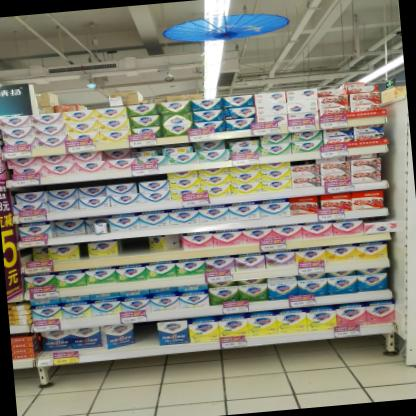empty_space: (134, 322, 160, 351), (118, 237, 150, 259)
